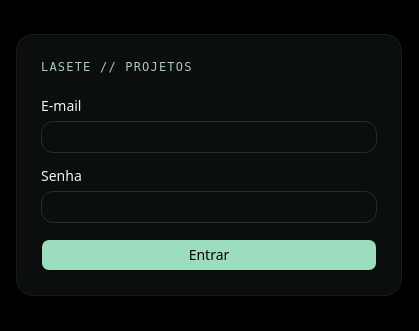
Scenario: login e acesso › auth/invalid-credential mostra "E-mail ou senha incorretos." e continua no login
Type "ana@lasete.org" into the field labelled "E-mail" at (209, 137), box [41,121,377,153]
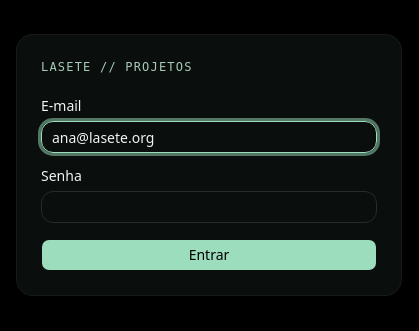
Type "errada" into the password field labelled "Senha" at (209, 207), box [41,191,377,223]
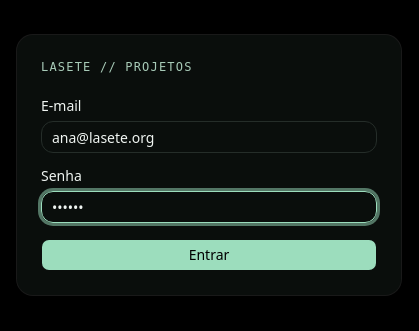
Click the button "Entrar" at (209, 255), box [41,239,377,271]
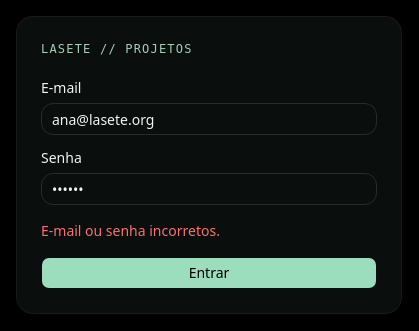
Expected: the button "Entrar" is shown, [41,257,377,289]
Result: the text "E-mail ou senha incorretos." is shown at [41,221,220,240]
